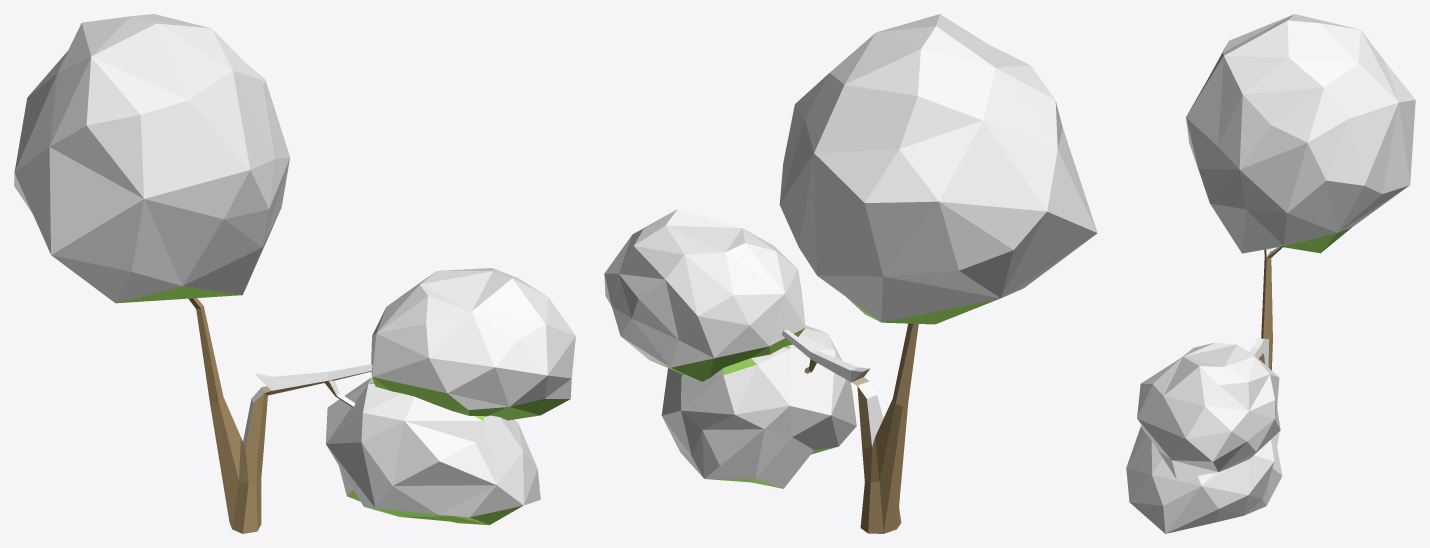
The model's file is Apple_Tree_crk_m_Snow_04.fbx.
3 renders of one model, left to right at view 1: azimuth 30°, elevation 25°; view 2: azimuth 150°, elevation 25°; view 3: azimuth 270°, elevation 25°, orthographic. The views are drawn at different scales.
Parts seen in each view (by area): view 1: Apple_Tree_crk_m_Snow_04; view 2: Apple_Tree_crk_m_Snow_04; view 3: Apple_Tree_crk_m_Snow_04.
Part boxes in pixels (x1=…): Apple_Tree_crk_m_Snow_04: x1=14, y1=14, x2=575, y2=533; Apple_Tree_crk_m_Snow_04: x1=604, y1=14, x2=1097, y2=533; Apple_Tree_crk_m_Snow_04: x1=1126, y1=14, x2=1415, y2=533.
Size of the model in its own units: 869 by 869 by 558.
